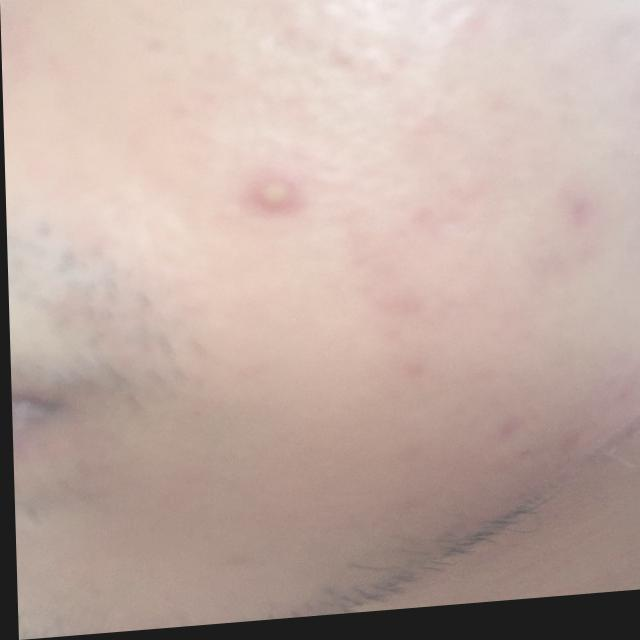blackheads: (216, 162, 331, 237)
